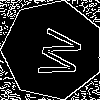W: (27, 25, 84, 82)
